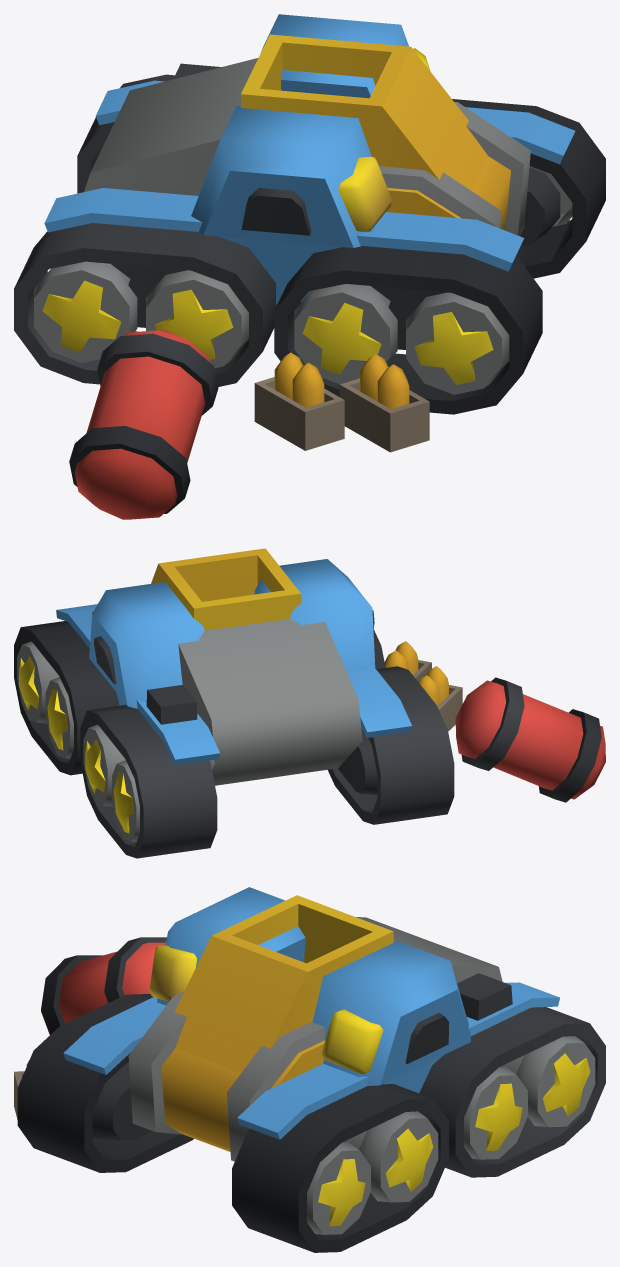
File: Tank_under_construction.fbx
3 views of the same model, one above another, from view 1: azimuth 30°, elevation 25°; view 2: azimuth 150°, elevation 25°; view 3: azimuth 270°, elevation 25° (orthographic). The views are drawn at different scales.
Visible parts, largest first — view 1: Tank_under_construction; view 2: Tank_under_construction; view 3: Tank_under_construction.
Part boxes in pixels (<box>): Tank_under_construction: <box>14,14,605,519</box>; Tank_under_construction: <box>14,548,605,858</box>; Tank_under_construction: <box>14,887,605,1252</box>.
Bounding box in the file's own units: 512 × 222 × 459.
